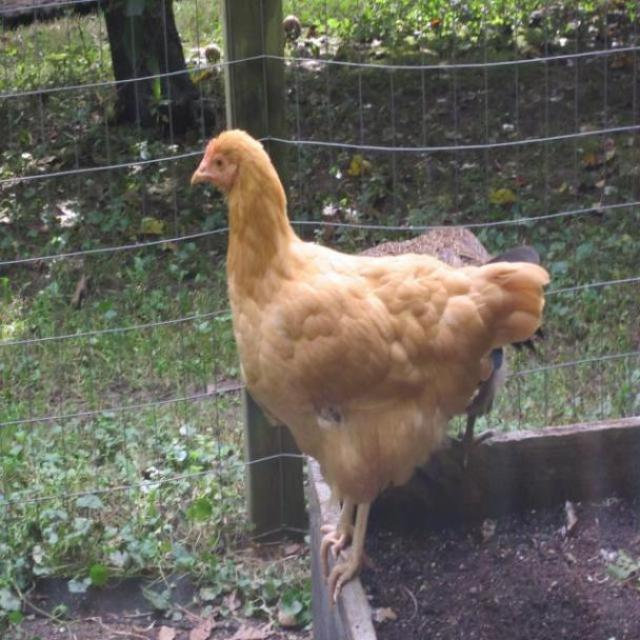Chicken: (186, 133, 536, 588)
